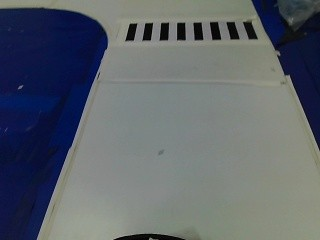crosswalk: (119, 19, 262, 45)
